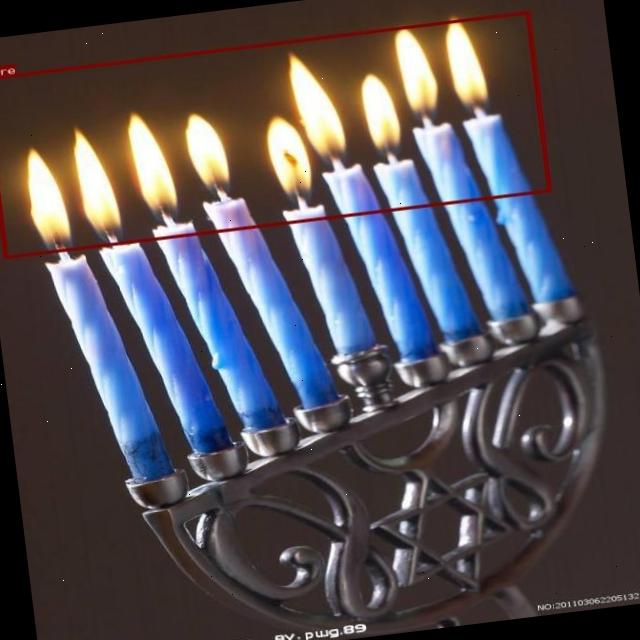fire: (0, 10, 550, 258)
